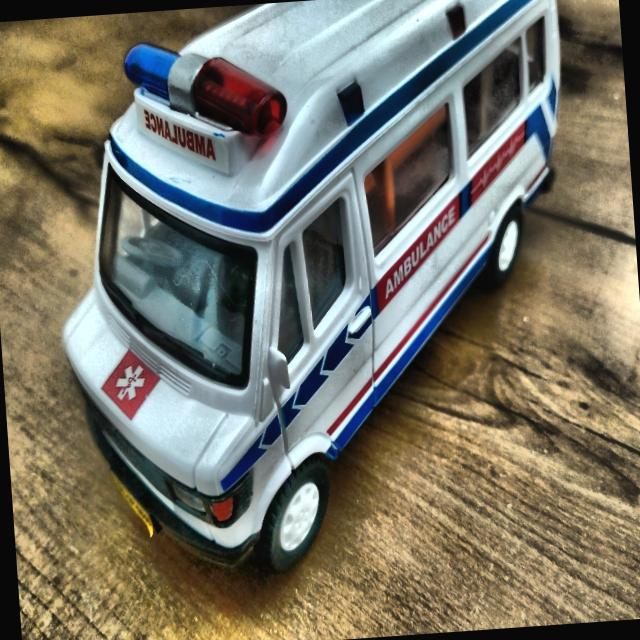Ambulance: (34, 1, 640, 584)
